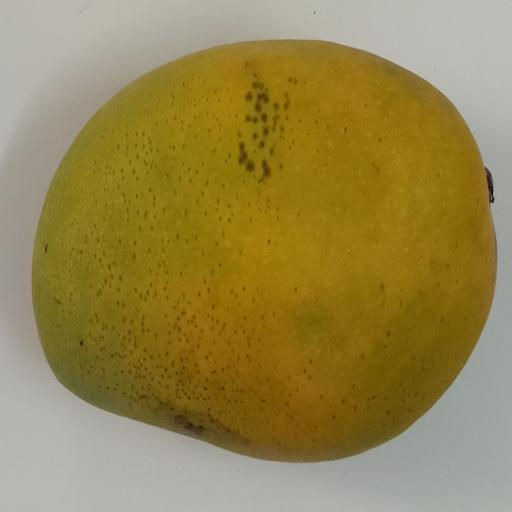mango-ripe: (0, 43, 500, 479)
